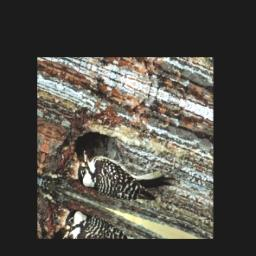Woodpecker: (74, 139, 177, 219)
